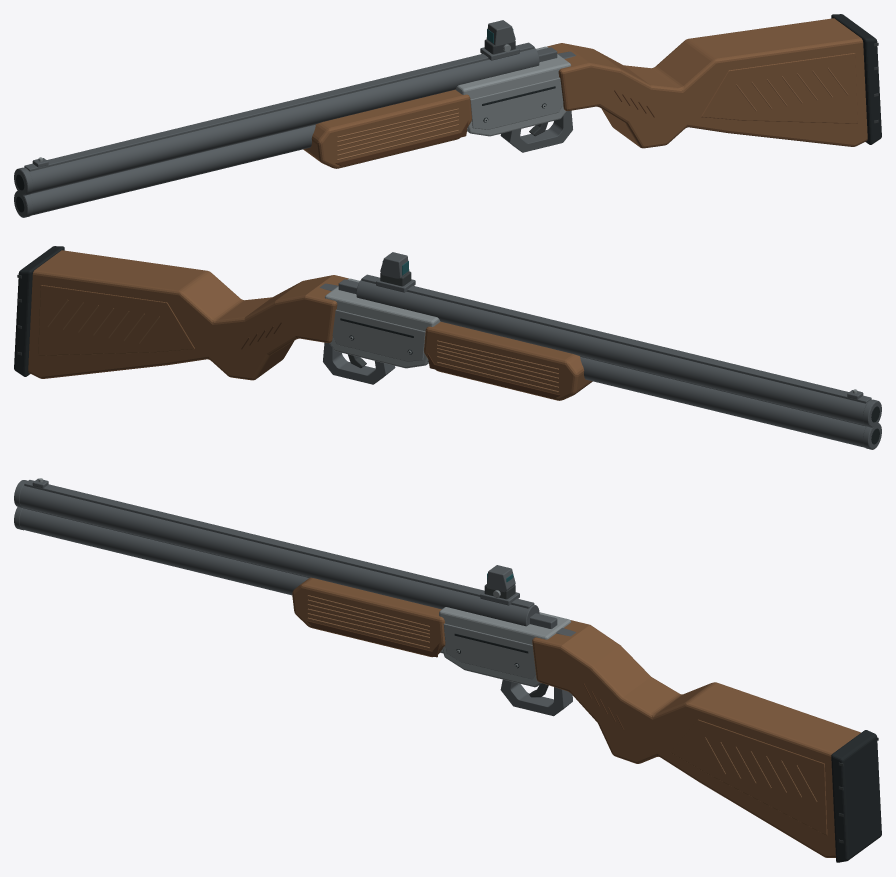
File: shotgun725.glb
3 views of the same model, one above another, from view 1: azimuth 30°, elevation 25°; view 2: azimuth 150°, elevation 25°; view 3: azimuth 330°, elevation 25° (orthographic).
Parts seen in each view (by area): view 1: part_stock_surfaces, part_barrels_surfaces, part_forearm_surfaces, part_receiver_surfaces, part_sights_surfaces, part_pad_surfaces, part_details_surfaces, part_controls_surfaces, part_optic_surfaces; view 2: part_stock_surfaces, part_barrels_surfaces, part_forearm_surfaces, part_receiver_surfaces, part_sights_surfaces, part_pad_surfaces, part_details_surfaces, part_controls_surfaces, part_optic_surfaces; view 3: part_stock_surfaces, part_barrels_surfaces, part_forearm_surfaces, part_receiver_surfaces, part_pad_surfaces, part_sights_surfaces, part_details_surfaces, part_controls_surfaces, part_optic_surfaces.
Part boxes in pixels (x1=…): part_stock_surfaces: x1=547, y1=18, x2=867, y2=148; part_barrels_surfaces: x1=14, y1=47, x2=539, y2=217; part_forearm_surfaces: x1=303, y1=89, x2=471, y2=168; part_receiver_surfaces: x1=455, y1=46, x2=570, y2=136; part_sights_surfaces: x1=24, y1=42, x2=557, y2=171; part_pad_surfaces: x1=831, y1=14, x2=881, y2=144; part_details_surfaces: x1=337, y1=68, x2=848, y2=160; part_controls_surfaces: x1=500, y1=51, x2=575, y2=152; part_optic_surfaces: x1=480, y1=20, x2=519, y2=60; part_stock_surfaces: x1=28, y1=250, x2=348, y2=380; part_barrels_surfaces: x1=356, y1=279, x2=881, y2=449; part_forearm_surfaces: x1=424, y1=321, x2=592, y2=400; part_receiver_surfaces: x1=325, y1=278, x2=440, y2=368; part_sights_surfaces: x1=338, y1=274, x2=871, y2=403; part_pad_surfaces: x1=14, y1=246, x2=64, y2=376; part_details_surfaces: x1=47, y1=300, x2=558, y2=392; part_controls_surfaces: x1=320, y1=283, x2=395, y2=384; part_optic_surfaces: x1=376, y1=252, x2=415, y2=292; part_stock_surfaces: x1=532, y1=620, x2=860, y2=857; part_barrels_surfaces: x1=14, y1=480, x2=539, y2=626; part_forearm_surfaces: x1=292, y1=577, x2=445, y2=657; part_receiver_surfaces: x1=439, y1=607, x2=570, y2=687; part_pad_surfaces: x1=831, y1=730, x2=881, y2=862; part_sights_surfaces: x1=24, y1=478, x2=557, y2=628; part_details_surfaces: x1=307, y1=595, x2=817, y2=801; part_controls_surfaces: x1=500, y1=628, x2=575, y2=716; part_optic_surfaces: x1=480, y1=565, x2=519, y2=605.
Size of the model in its own units: 330 by 72.69 by 24.02.
